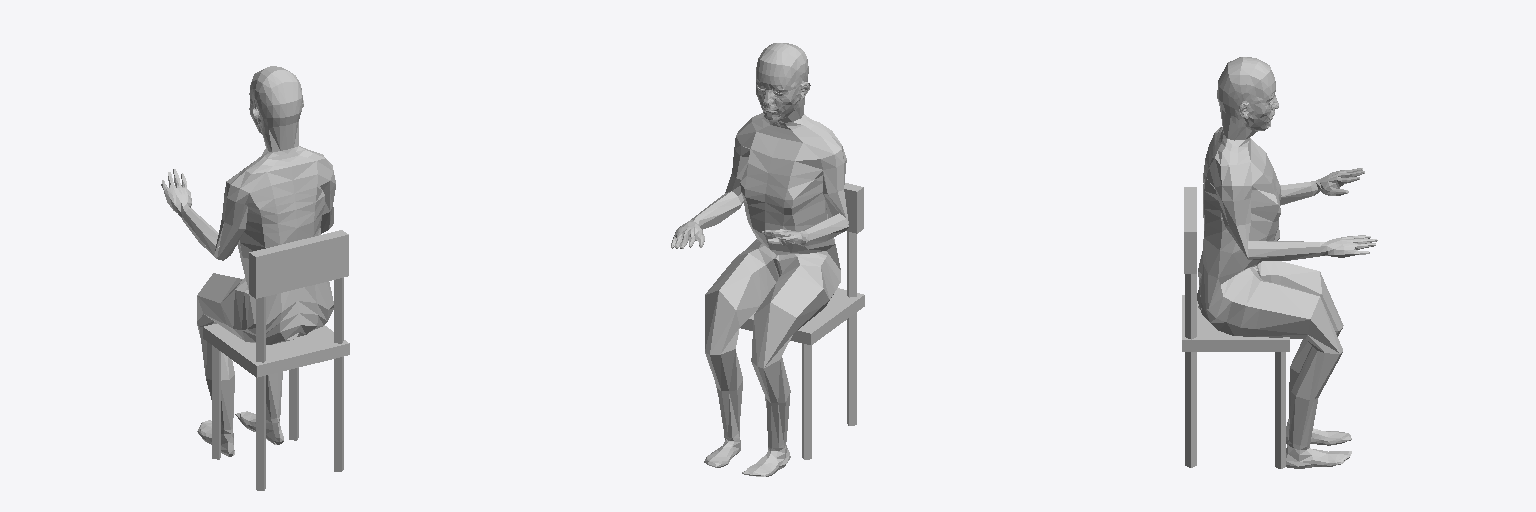
Rendered from personsit2_000002.obj.
3 views of the same model, side by side, from view 1: azimuth 30°, elevation 25°; view 2: azimuth 150°, elevation 25°; view 3: azimuth 270°, elevation 25° (orthographic).
Visible parts, largest first — view 1: Cube, Cube.001_Cube.002; view 2: Cube, Cube.001_Cube.002; view 3: Cube, Cube.001_Cube.002.
Boxes of the visible parts, <box> form: Cube: <box>161,66,335,456</box>; Cube.001_Cube.002: <box>203,230,349,490</box>; Cube: <box>671,43,848,476</box>; Cube.001_Cube.002: <box>724,183,864,459</box>; Cube: <box>1197,57,1377,468</box>; Cube.001_Cube.002: <box>1182,187,1289,468</box>.
Size of the model in its own units: 24.88 by 76.39 by 34.1.